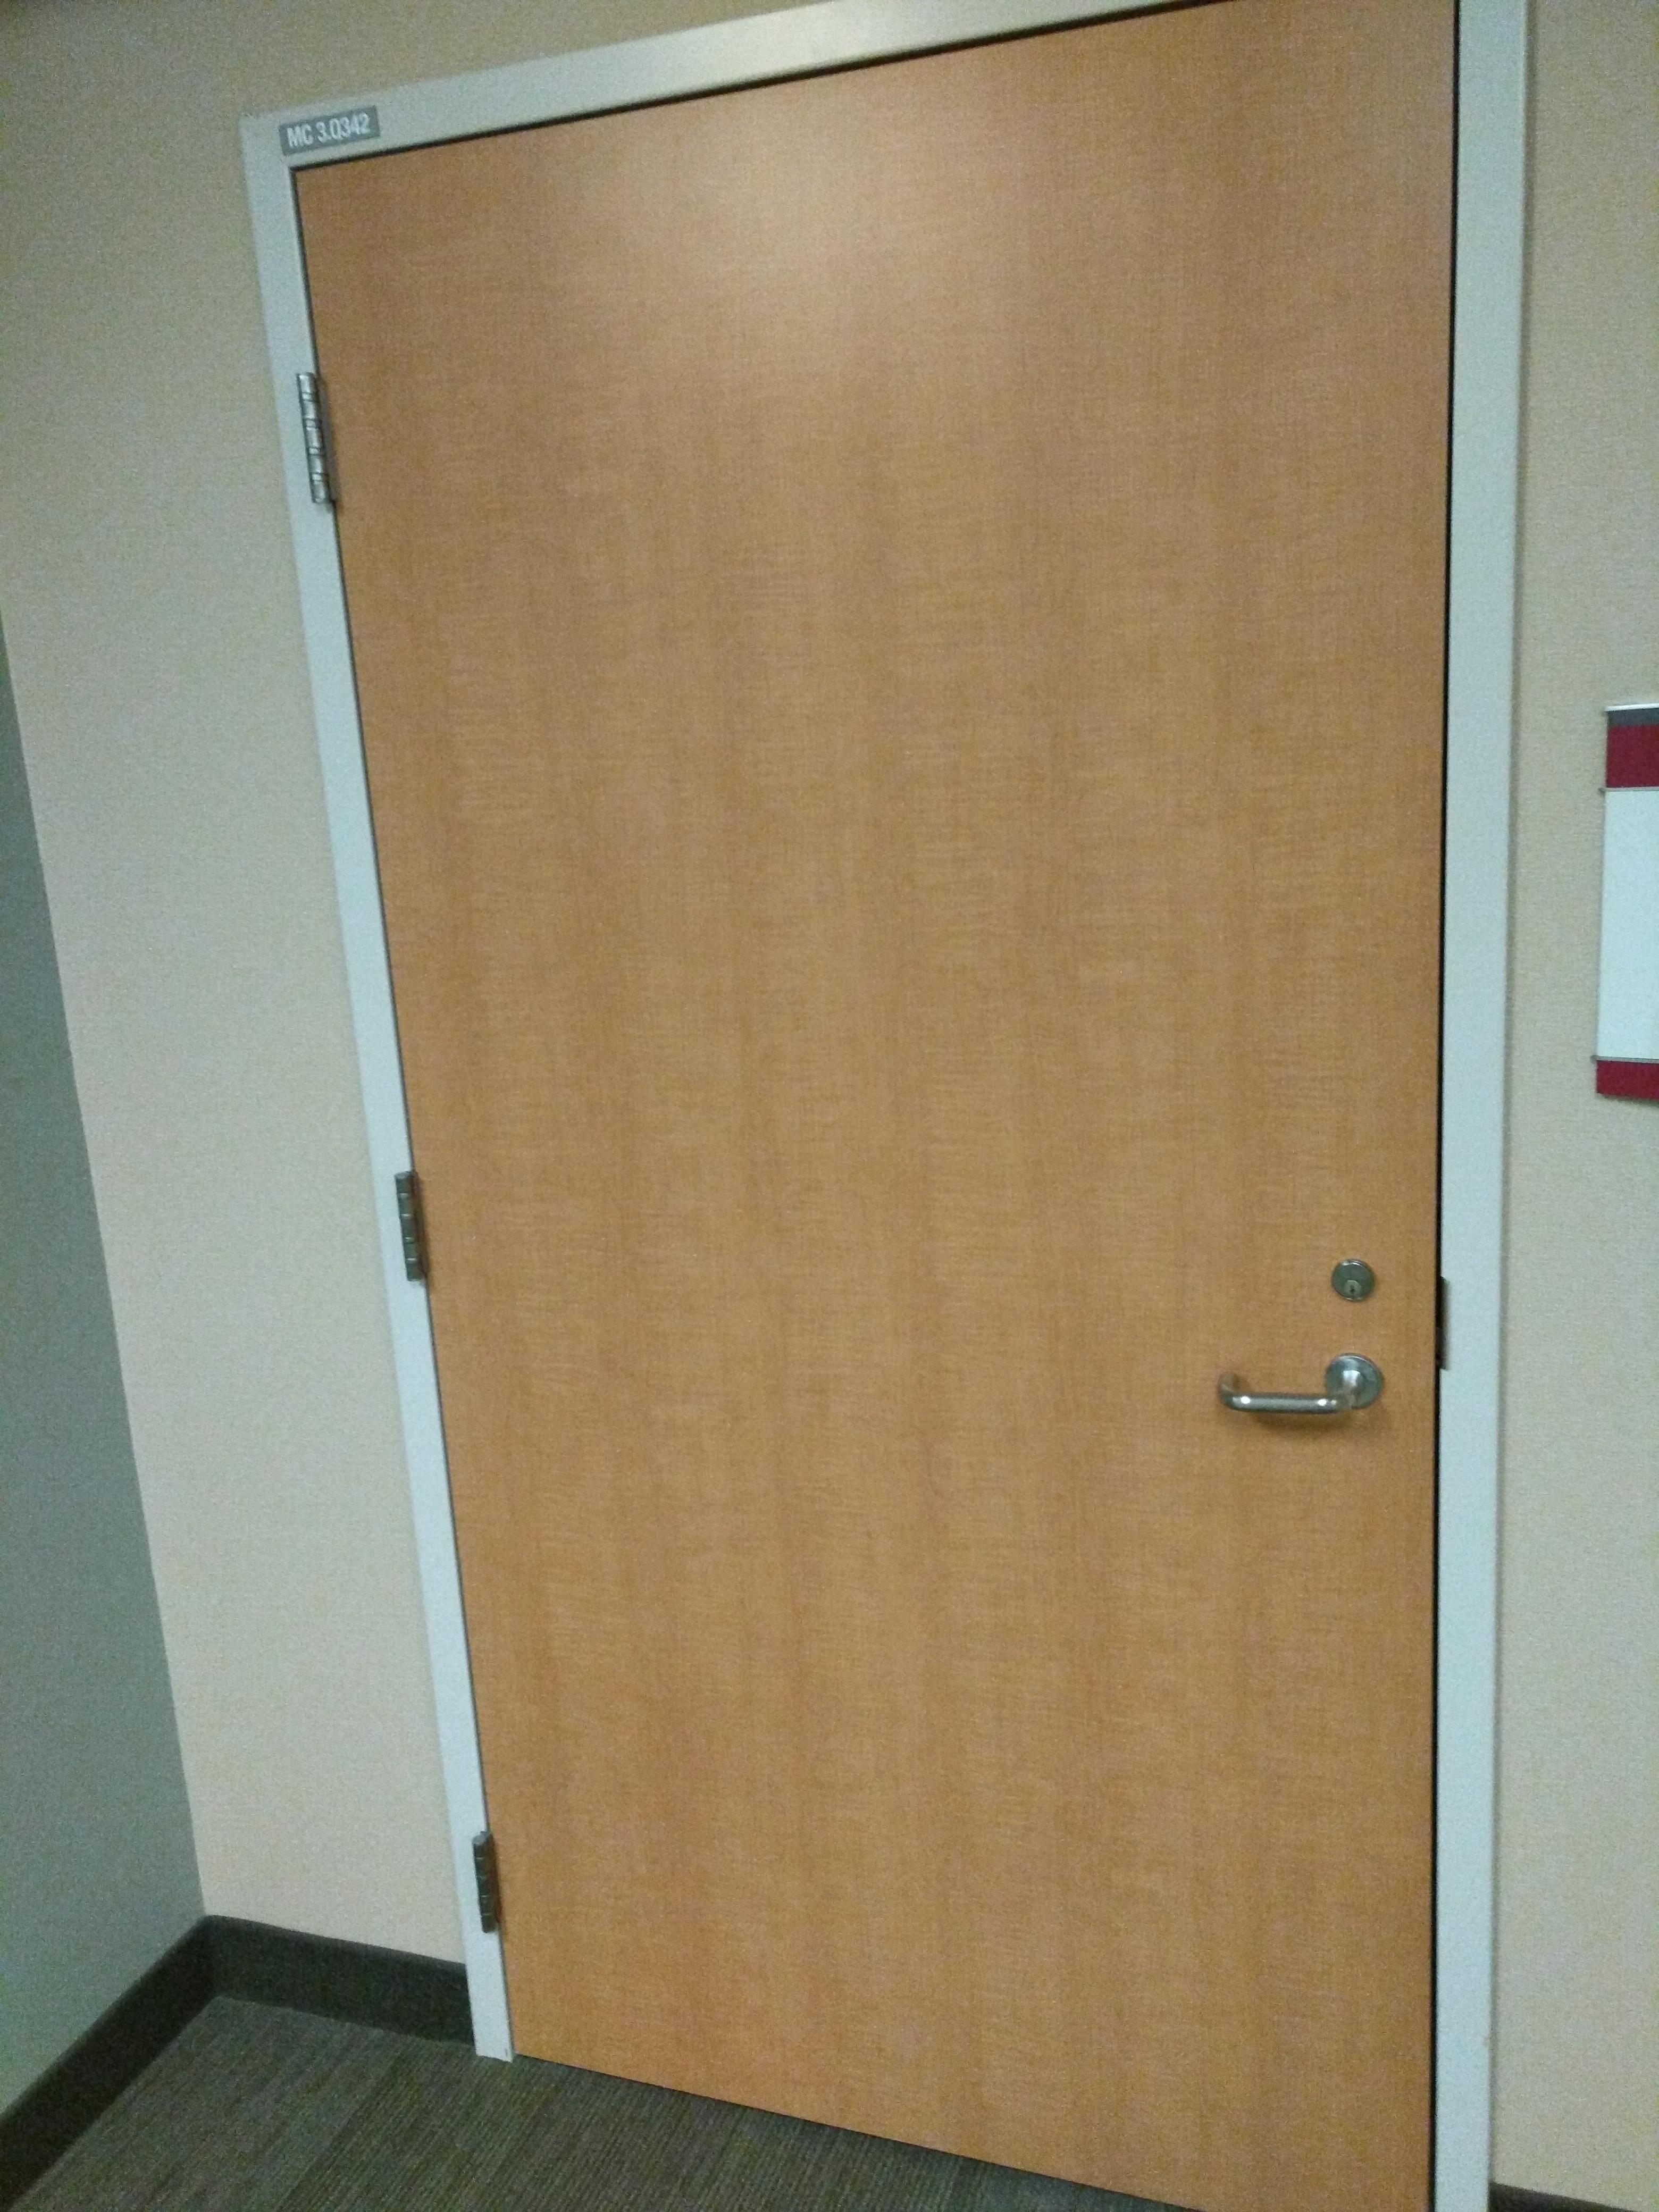door: (411, 5, 1473, 2212)
